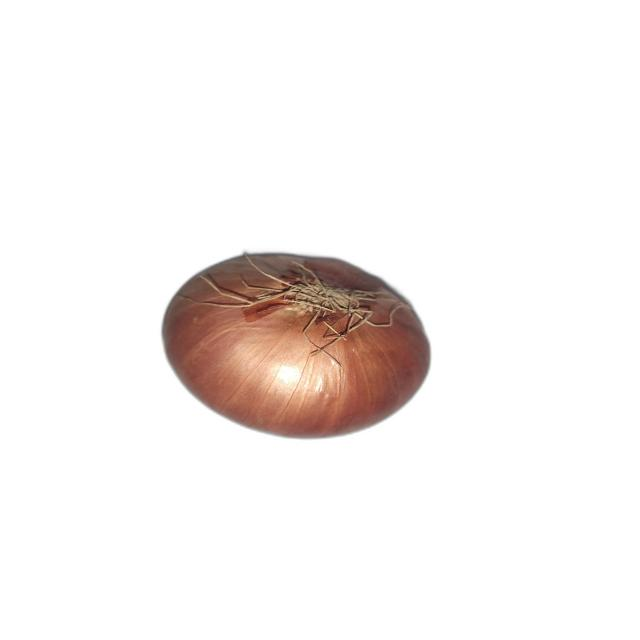onion: (160, 250, 434, 442)
